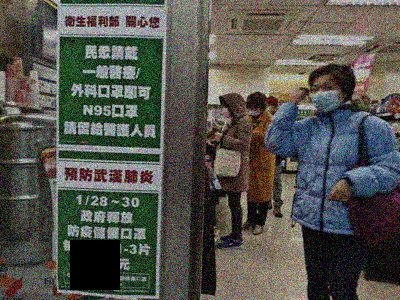with_mask: (310, 80, 342, 116), (247, 106, 264, 118), (221, 104, 231, 119), (265, 103, 274, 114)
